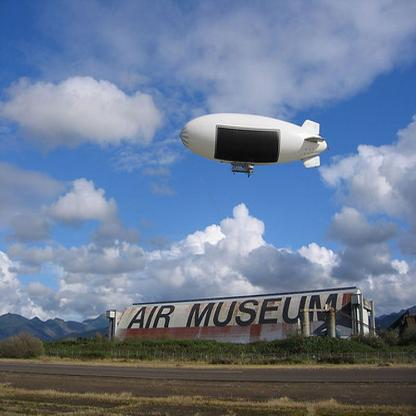Airship: (176, 111, 330, 180)
